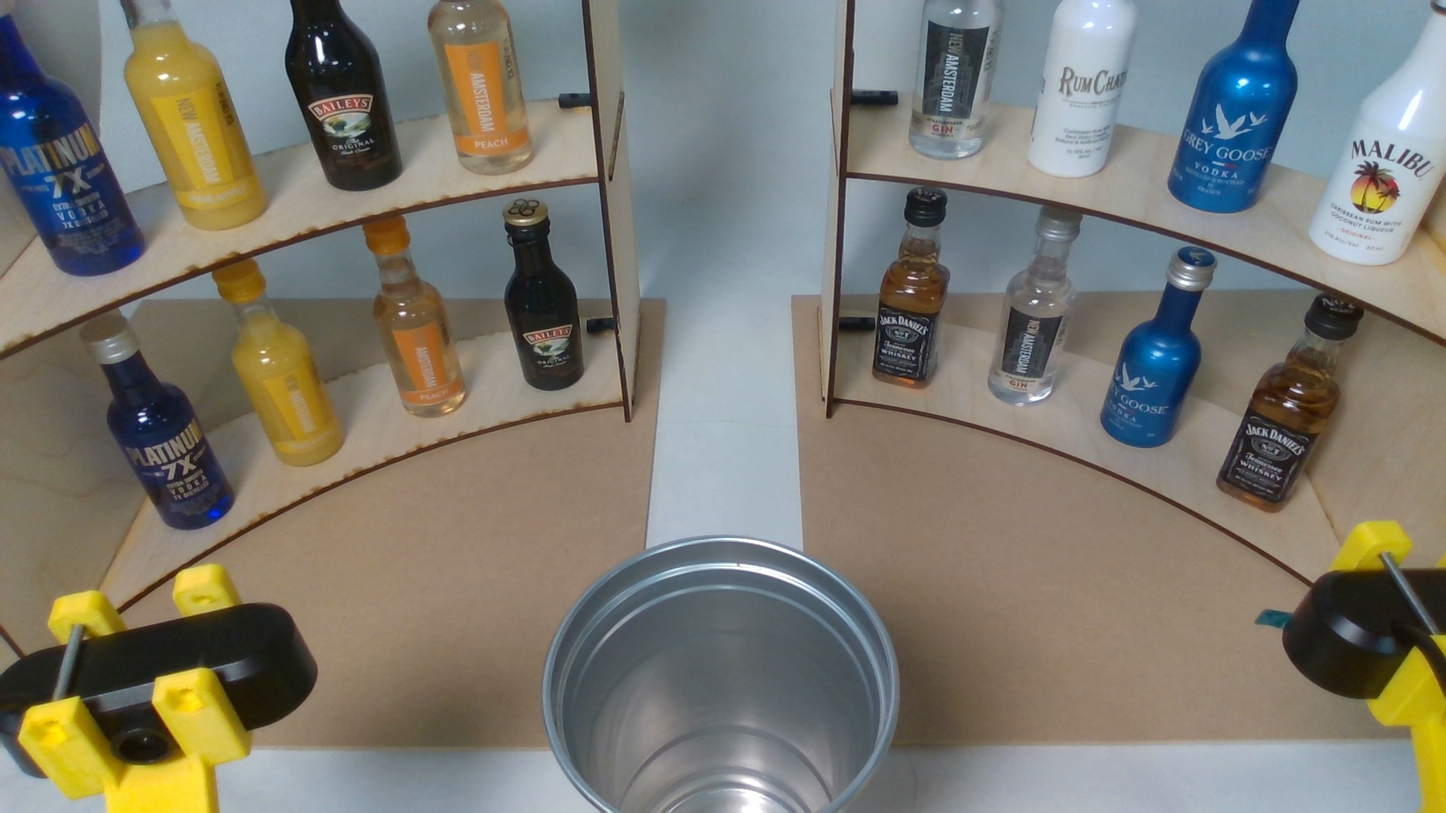coke: (278, 0, 405, 193), (499, 198, 587, 394)
gin: (989, 204, 1085, 407), (911, 0, 1007, 160)
ginger_beer: (361, 213, 468, 421), (426, 0, 538, 176)
orange_juice: (123, 0, 270, 233), (210, 256, 353, 468)
tequila: (1308, 0, 1446, 270)
tonic_water: (0, 14, 152, 279), (75, 312, 236, 531)
vodka: (1167, 0, 1302, 216), (1099, 244, 1217, 451)
whiskey: (1217, 292, 1361, 514), (869, 185, 950, 390)
